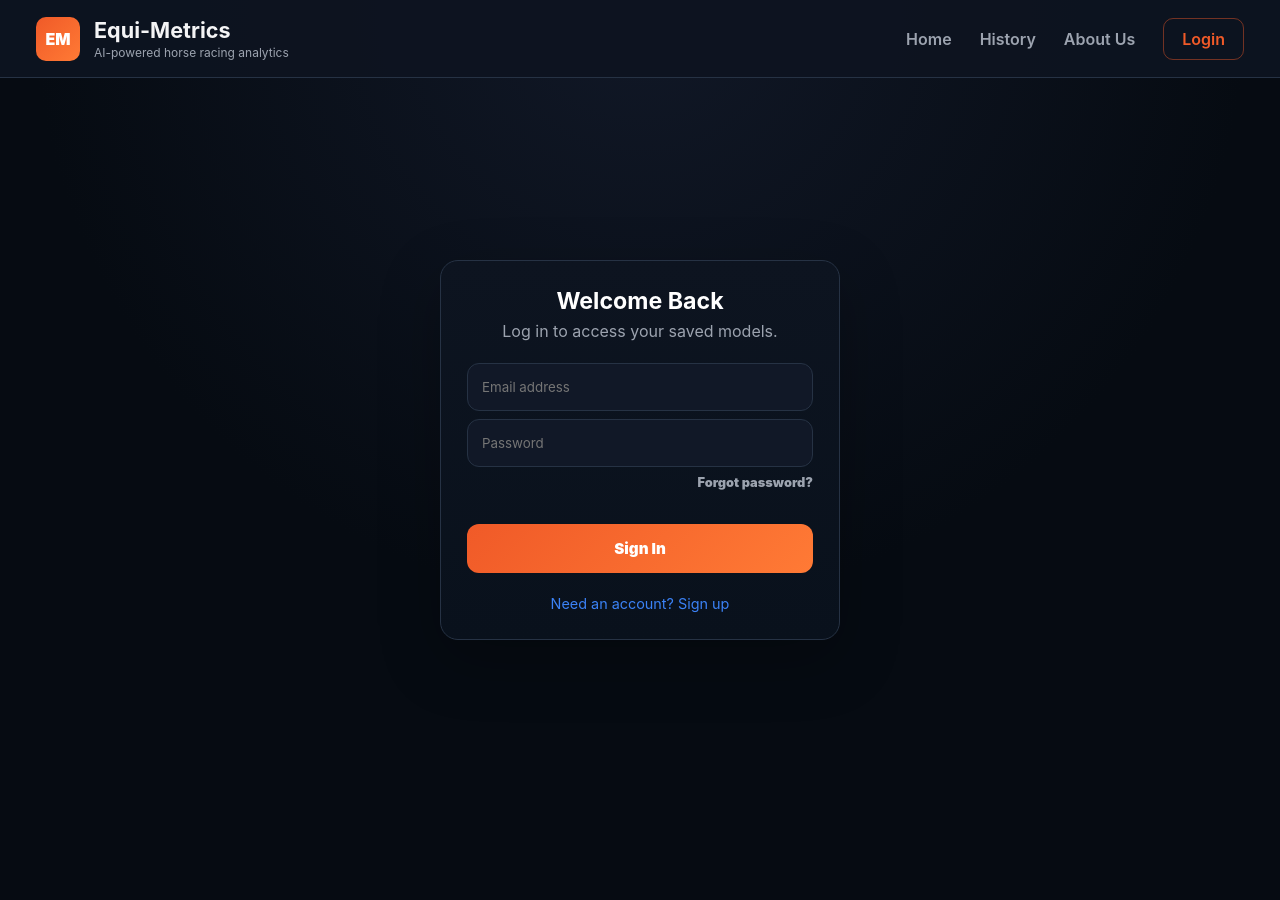
Scenario: Login › switching back from signup to login toggles the heading back
Step 1. Click the button "Need an account? Sign up" → [640, 604], box [545,594,735,613]
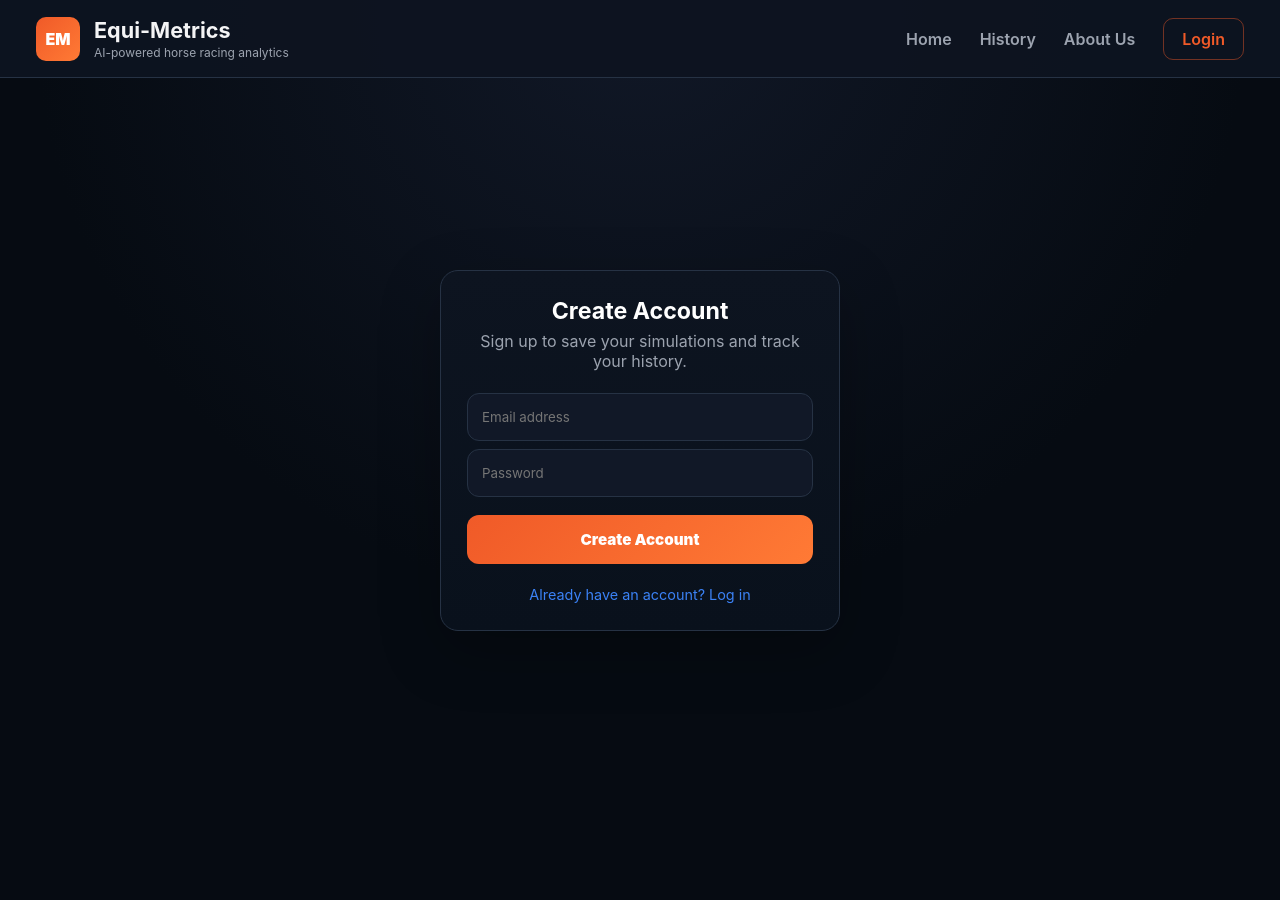
Step 2. Click the button "Already have an account? Log in" → [640, 594], box [523,584,757,604]
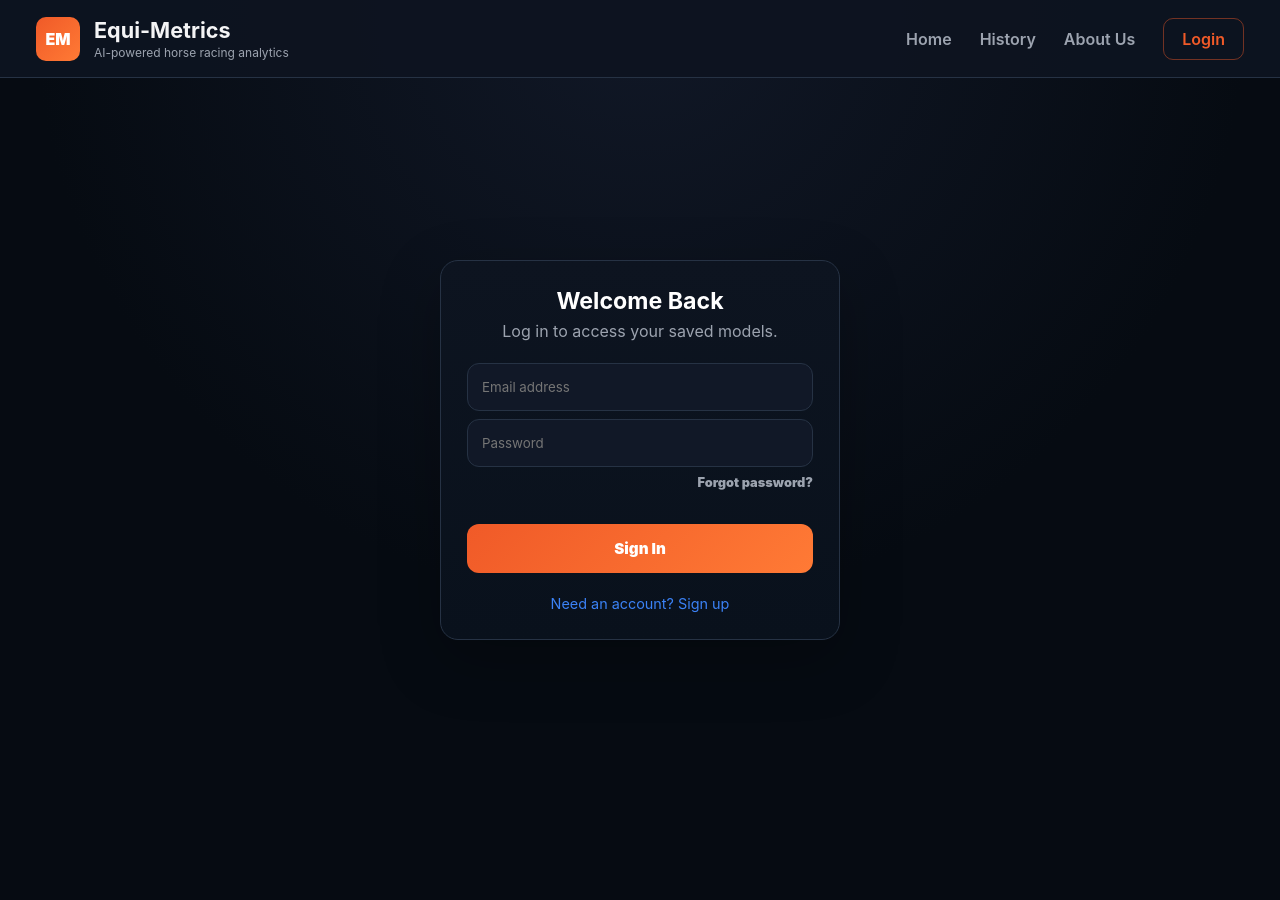
expect the heading "Welcome Back" is shown: met, box [556,287,724,315]
